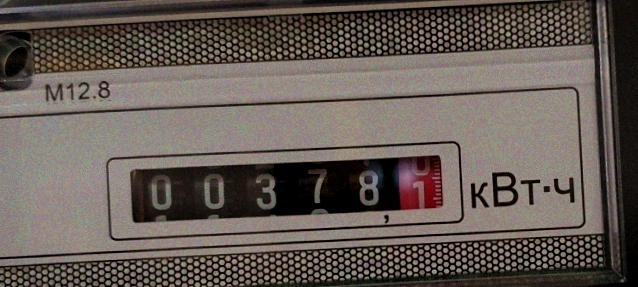0: (148, 170, 175, 211), (201, 171, 226, 210), (409, 154, 431, 177)
1: (409, 177, 428, 209)
3: (252, 170, 278, 211)
7: (305, 166, 328, 204)
8: (356, 167, 380, 207)
screen: (109, 137, 462, 233)
